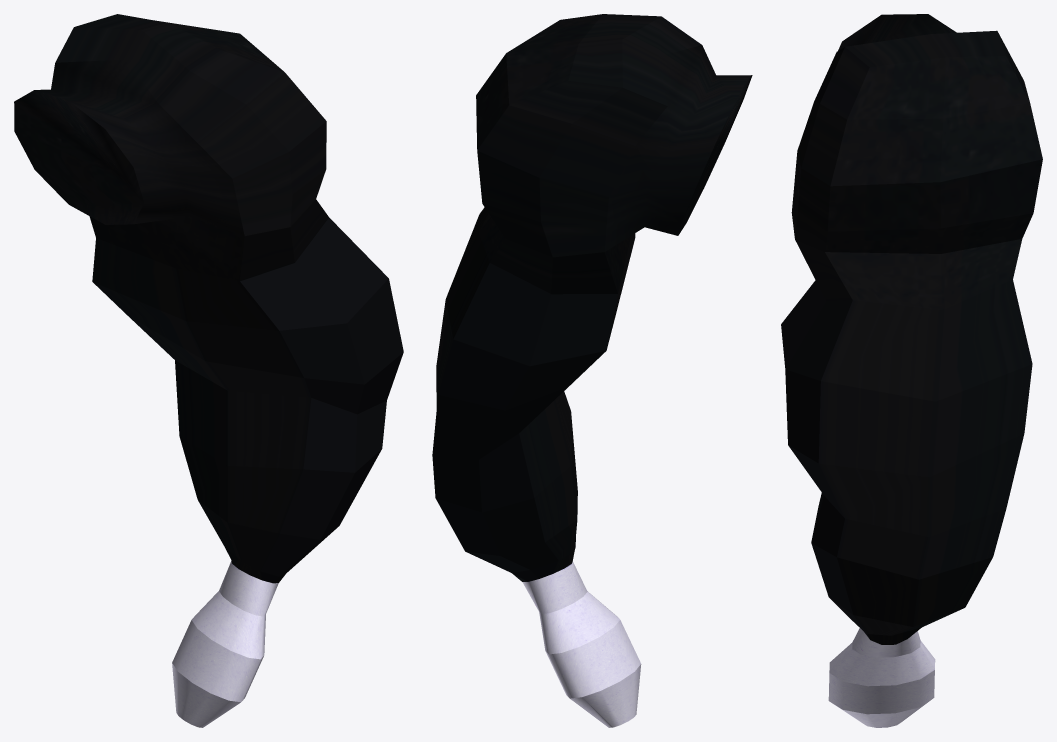
Rendered from brazo.obj.
The picture shows the model from 3 angles, left to right: view 1: azimuth 30°, elevation 25°; view 2: azimuth 150°, elevation 25°; view 3: azimuth 270°, elevation 25°; orthographic projection. The views are drawn at different scales.
Parts seen in each view (by area): view 1: Cylinder.002; view 2: Cylinder.002; view 3: Cylinder.002.
Part boxes in pixels (<box>): Cylinder.002: <box>14,14,403,727</box>; Cylinder.002: <box>432,14,752,727</box>; Cylinder.002: <box>781,14,1042,727</box>.
Size of the model in its own units: 0.6447 by 1.33 by 0.467.
